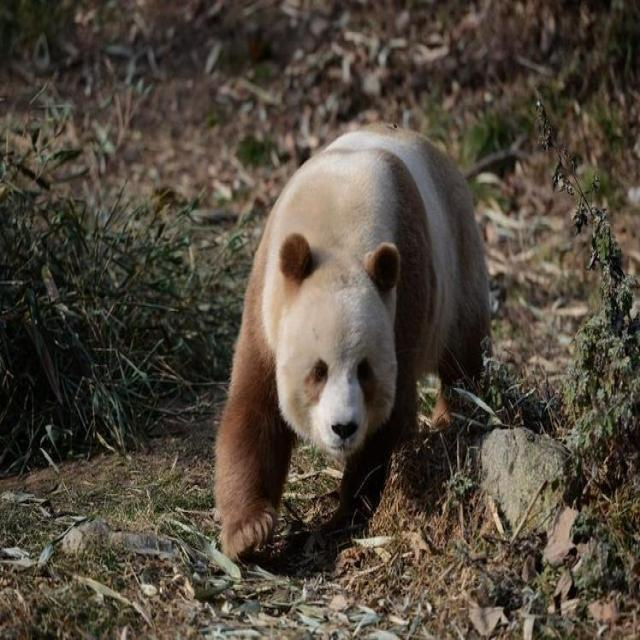panda: (208, 104, 505, 548)
